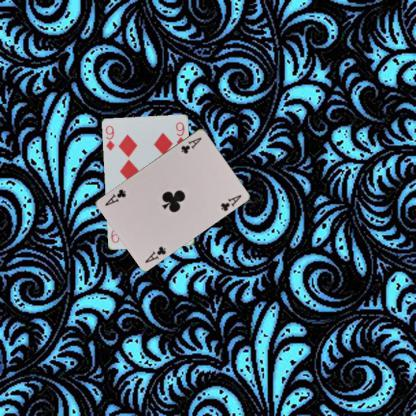9d: (104, 123, 116, 152)
Ac: (142, 243, 168, 264), (178, 134, 203, 154)
